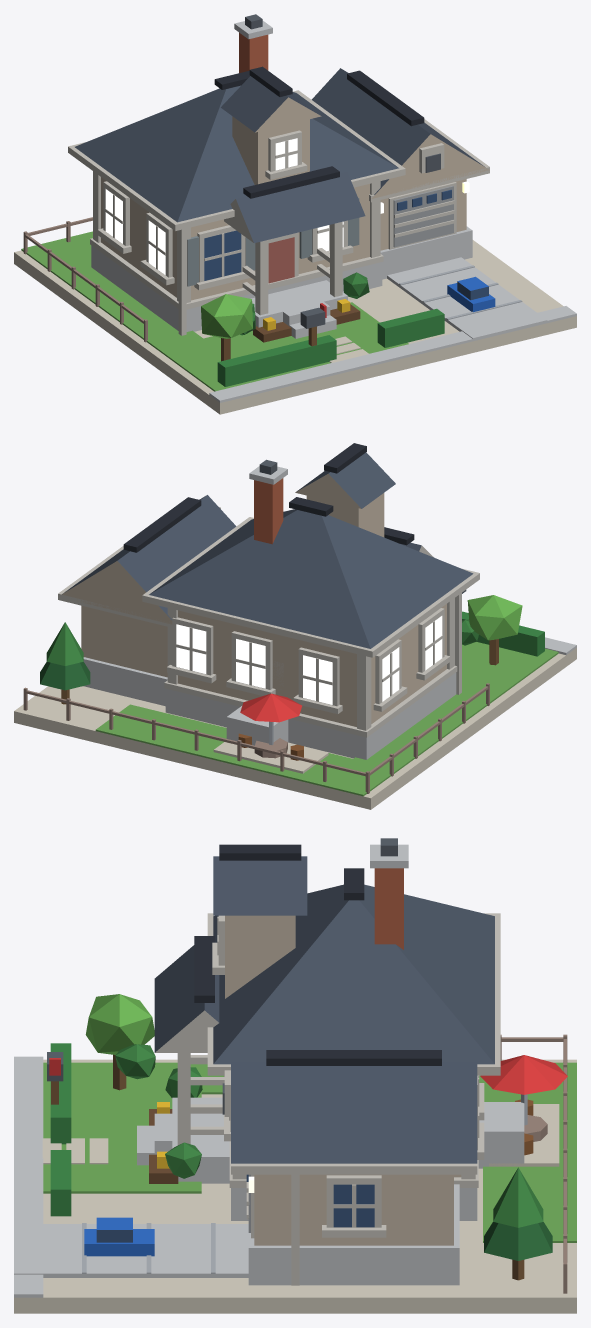
3 views of the same model, one above another, from view 1: azimuth 30°, elevation 25°; view 2: azimuth 150°, elevation 25°; view 3: azimuth 270°, elevation 25° (orthographic). The views are drawn at different scales.
Parts seen in each view (by area): view 1: b01_v2; view 2: b01_v2; view 3: b01_v2.
Part boxes in pixels (x1,y1,x2,y2): b01_v2: (14,14,576,414); b01_v2: (14,443,576,809); b01_v2: (14,838,576,1313).
Bounding box in the file's own units: 0.96 × 0.654 × 0.96.
